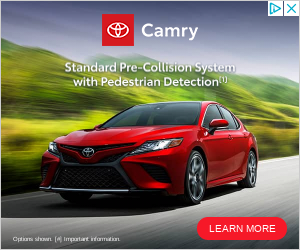fake_button: (194, 213, 294, 246)
